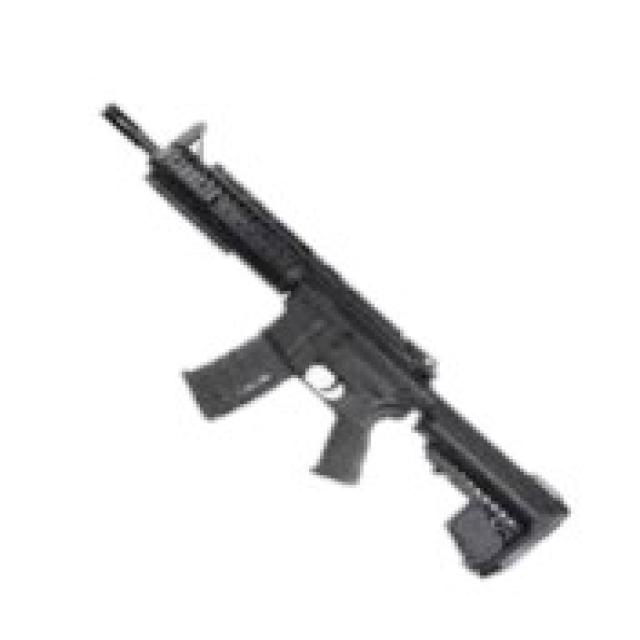rifle: (97, 93, 571, 591)
